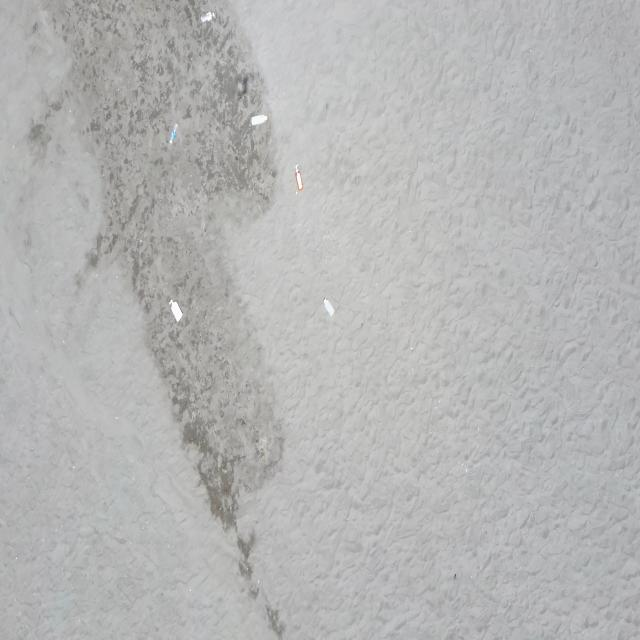plastic-bottle: (169, 298, 184, 324), (323, 296, 336, 317), (250, 112, 268, 126), (295, 163, 303, 193), (169, 121, 179, 144), (200, 10, 215, 23)
